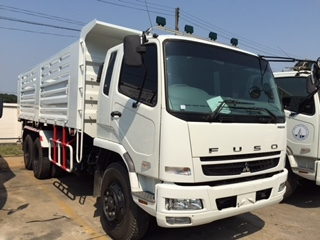truck: (27, 32, 288, 227)
